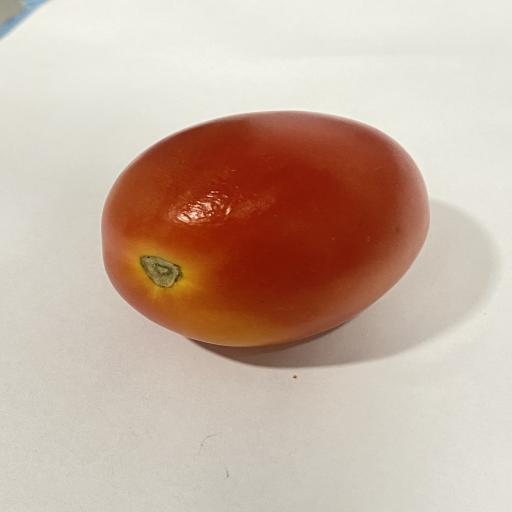overipe: (102, 111, 429, 346)
